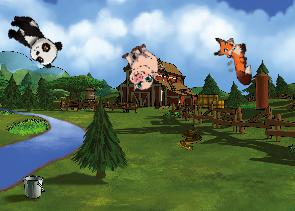fox: (211, 32, 254, 89)
panda: (0, 9, 66, 71)
pig: (114, 39, 168, 94)
